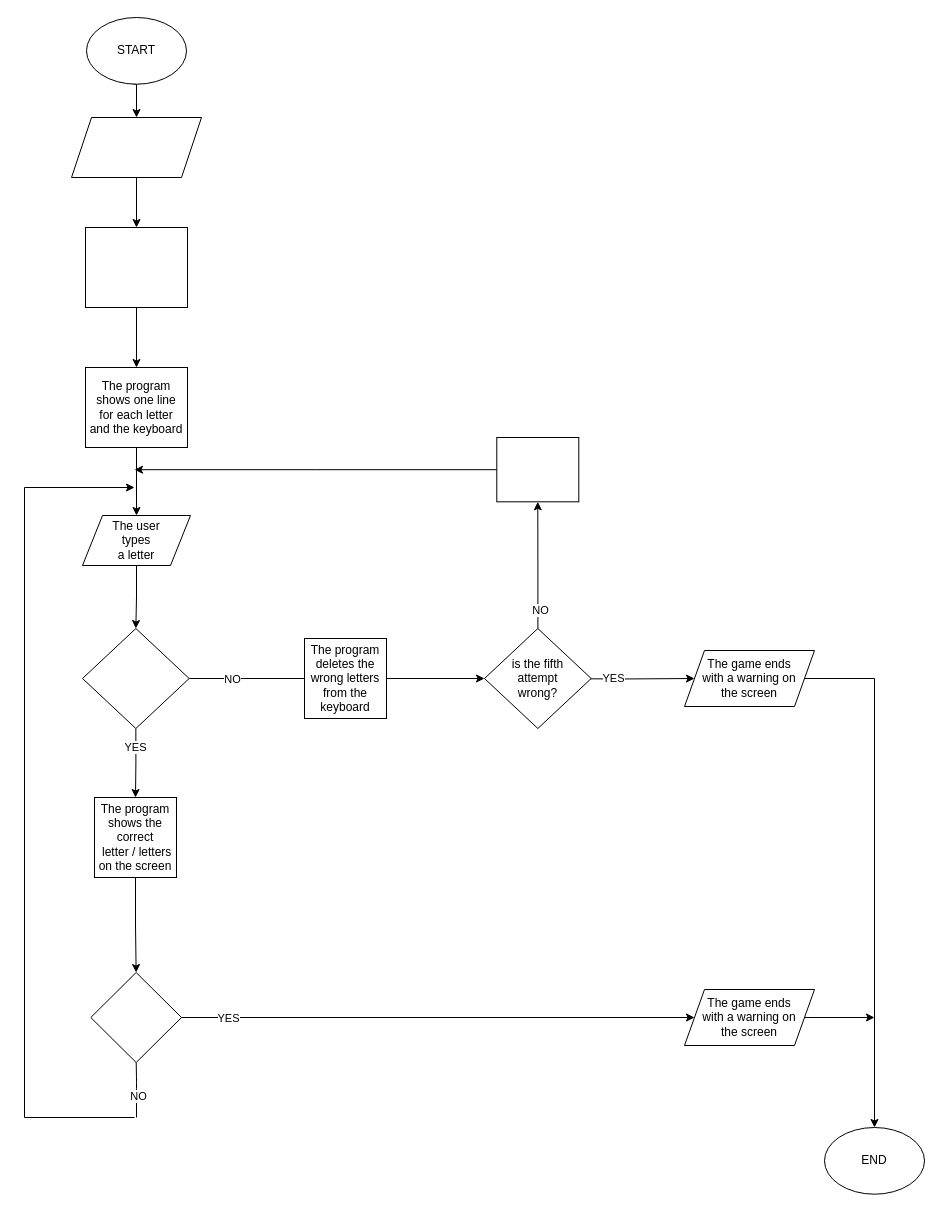
This 942x1212 diagram has some shape labels left out. The centre of each missing label's shape, as x and y in pixels:
Are all the letters?: point 136,1017
Is the letter in the selected word?: point 135,678
The program displays a strike: point 537,469
The program randomly extracts a word from the chosen topic: point 136,267
User chooses the topic of the game: point 136,147
